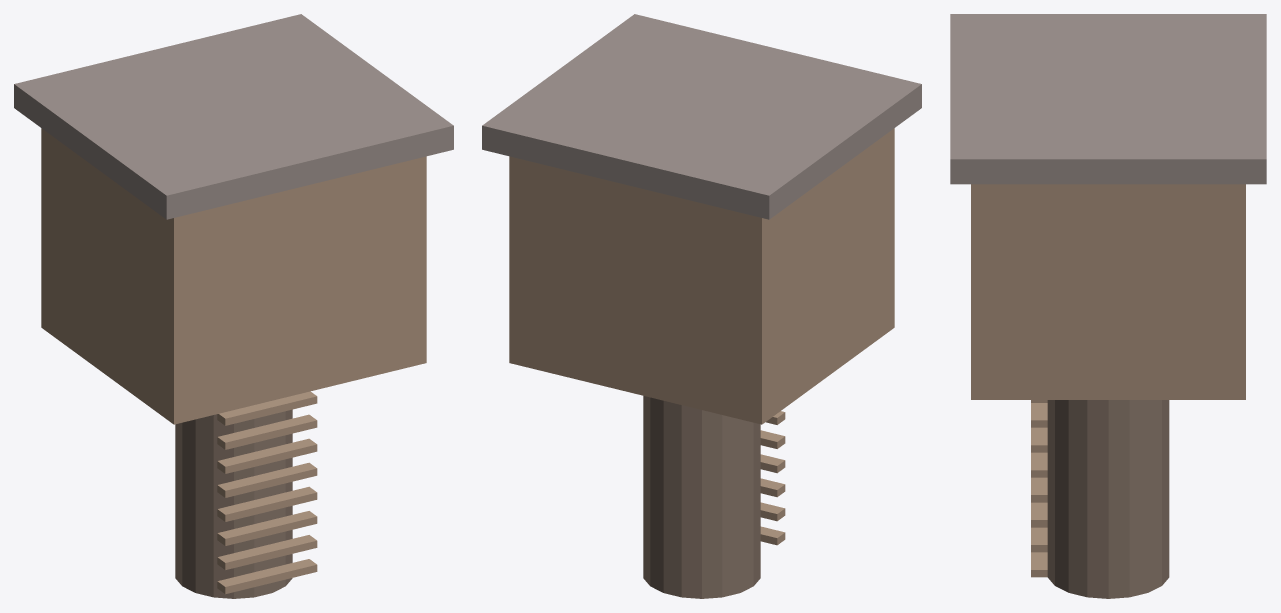
File: treehouse.glb
The picture shows the model from 3 angles, left to right: view 1: azimuth 30°, elevation 25°; view 2: azimuth 150°, elevation 25°; view 3: azimuth 270°, elevation 25°; orthographic projection. The views are drawn at different scales.
Visible parts, largest first — view 1: part_00, part_01, part_02, part_08, part_09, part_03, part_07, part_04, part_05, part_06, part_10; view 2: part_00, part_01, part_02; view 3: part_00, part_01, part_02, part_03, part_04, part_05, part_06, part_07, part_08, part_09.
Part boxes in pixels (x1=…): part_00: x1=41, y1=128, x2=426, y2=424; part_01: x1=14, y1=14, x2=453, y2=219; part_02: x1=175, y1=409, x2=292, y2=598; part_08: x1=217, y1=438, x2=317, y2=473; part_09: x1=217, y1=414, x2=317, y2=449; part_03: x1=217, y1=559, x2=317, y2=594; part_07: x1=217, y1=462, x2=317, y2=497; part_04: x1=217, y1=535, x2=317, y2=569; part_05: x1=217, y1=511, x2=317, y2=545; part_06: x1=217, y1=486, x2=317, y2=521; part_10: x1=217, y1=391, x2=317, y2=425; part_00: x1=509, y1=128, x2=894, y2=424; part_01: x1=482, y1=14, x2=921, y2=219; part_02: x1=643, y1=396, x2=760, y2=598; part_00: x1=971, y1=184, x2=1245, y2=399; part_01: x1=950, y1=14, x2=1266, y2=184; part_02: x1=1047, y1=400, x2=1169, y2=598; part_03: x1=1031, y1=552, x2=1047, y2=577; part_04: x1=1031, y1=527, x2=1047, y2=552; part_05: x1=1031, y1=502, x2=1047, y2=527; part_06: x1=1031, y1=477, x2=1047, y2=502; part_07: x1=1031, y1=452, x2=1047, y2=477; part_08: x1=1031, y1=427, x2=1047, y2=452; part_09: x1=1031, y1=403, x2=1047, y2=427.
Size of the model in its own units: 2.5 by 3.9 by 2.3.
